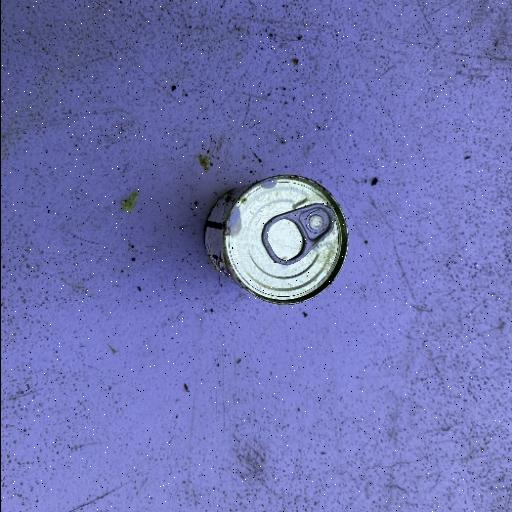Metal: (202, 172, 350, 306)
